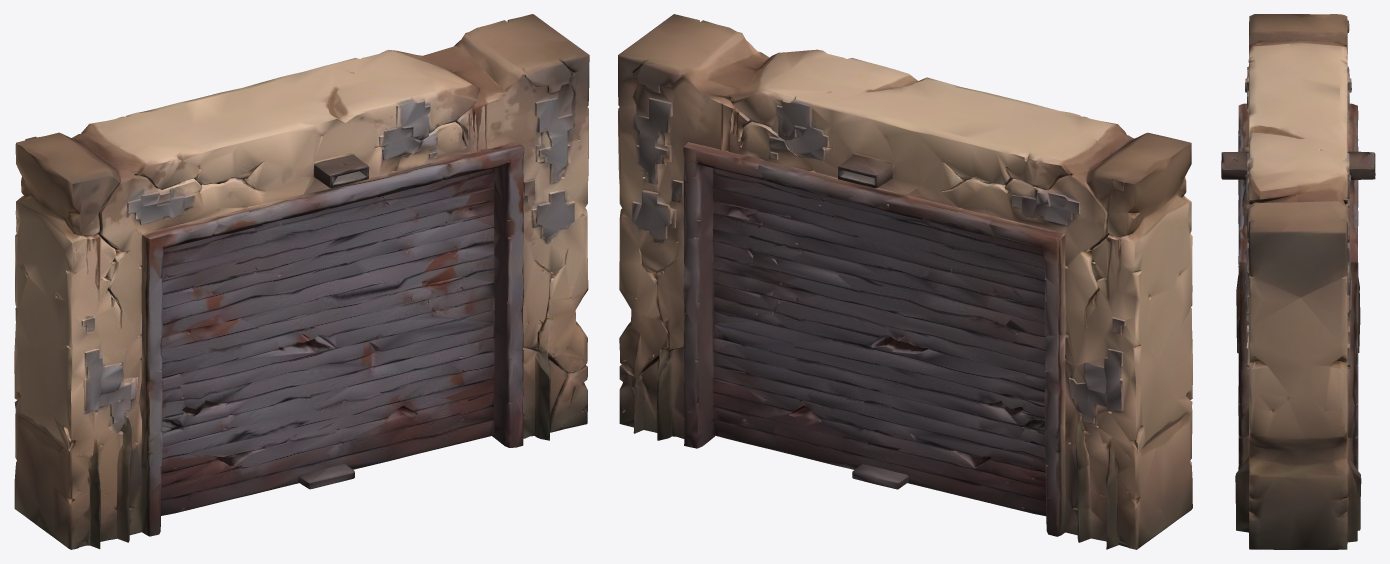
The model's file is facade_garage_damaged_idle.glb.
3 renders of one model, left to right at view 1: azimuth 30°, elevation 25°; view 2: azimuth 150°, elevation 25°; view 3: azimuth 270°, elevation 25°, orthographic. The views are drawn at different scales.
Visible parts, largest first — view 1: tripo_node_ff1e7e6a-2989-418a-899b-4a93c2badc2e; view 2: tripo_node_ff1e7e6a-2989-418a-899b-4a93c2badc2e; view 3: tripo_node_ff1e7e6a-2989-418a-899b-4a93c2badc2e.
Boxes of the visible parts, x1,y1,x2,y2 form: tripo_node_ff1e7e6a-2989-418a-899b-4a93c2badc2e: [14, 14, 589, 549]; tripo_node_ff1e7e6a-2989-418a-899b-4a93c2badc2e: [618, 14, 1192, 549]; tripo_node_ff1e7e6a-2989-418a-899b-4a93c2badc2e: [1221, 14, 1375, 549].
Size of the model in its own units: 2.94 by 2 by 0.8742.
Materials: 1 (1 with a texture image).
